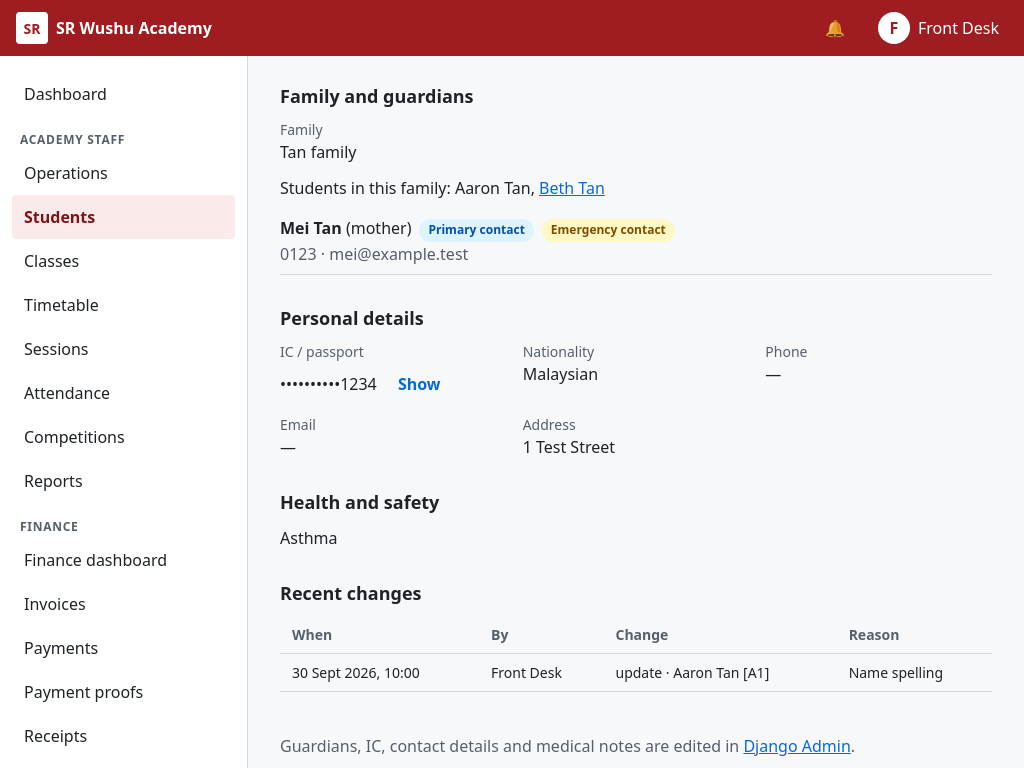
Scenario: students › detail shows the authorized record, masks the IC until shown, and lists guardians without their IC
(page scrolled)
Check: the element "Personal details" does not show "140501-10-1234", box [280,306,808,458]
Click the button "Show": [419, 384] box [381,362,458,406]
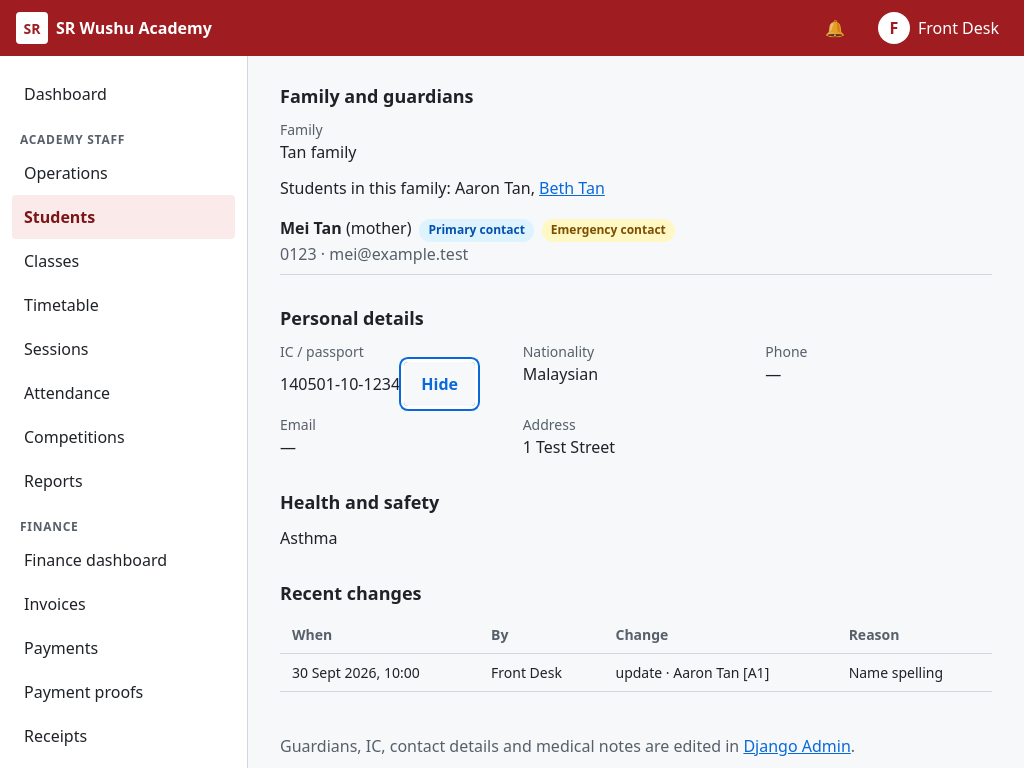
Check: the element "Health and safety" shows "Asthma", box [280,527,338,549]
Check: the element "Personal details" shows "140501-10-1234", box [280,373,400,395]
